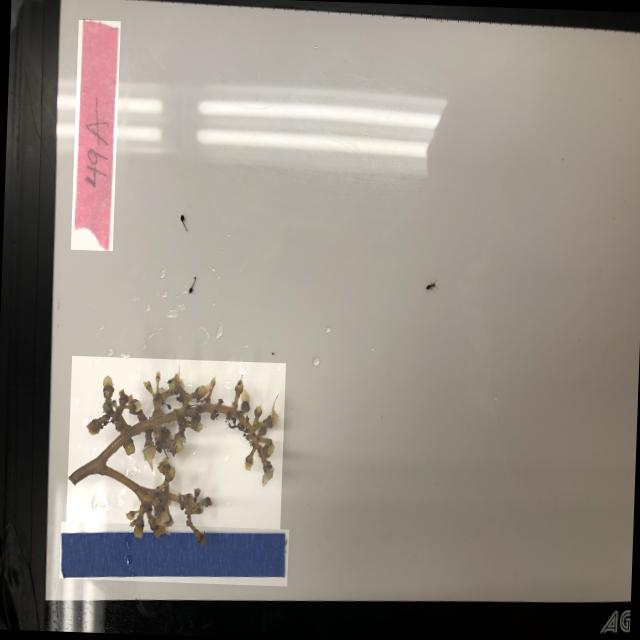index: (70, 18, 120, 249)
measure_label: (59, 520, 289, 585)
rachis_cluster: (66, 354, 286, 546)
